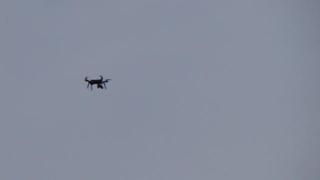UAV: (85, 76, 112, 91)
